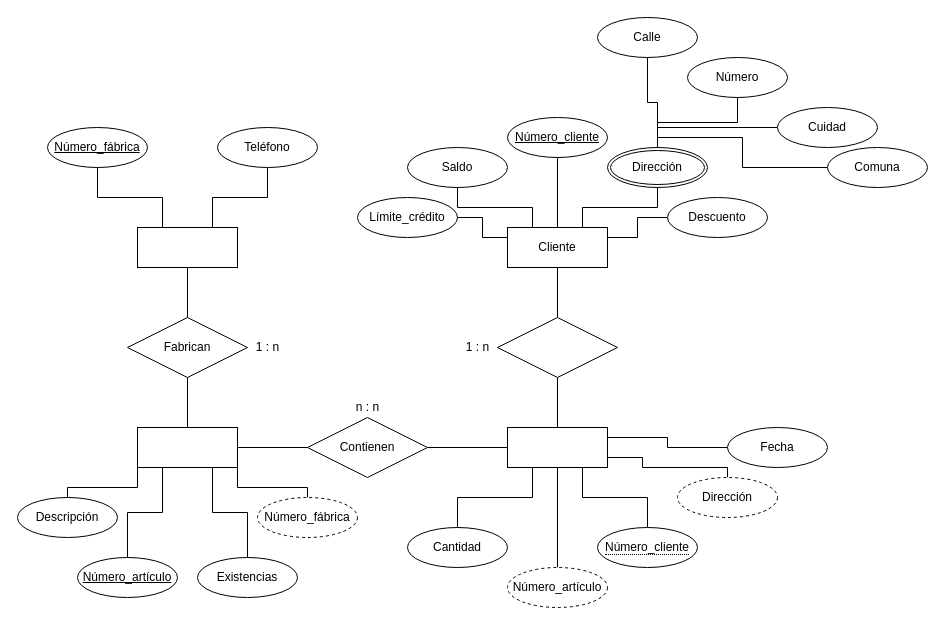
This 945x625 diagram has some shape labels left out. The centre of each missing label's shape, as x and y in pixels:
Fabrica: the point at 187,247
Pedido: the point at 557,447
Realiza: the point at 557,347
Árticulo: the point at 187,447
